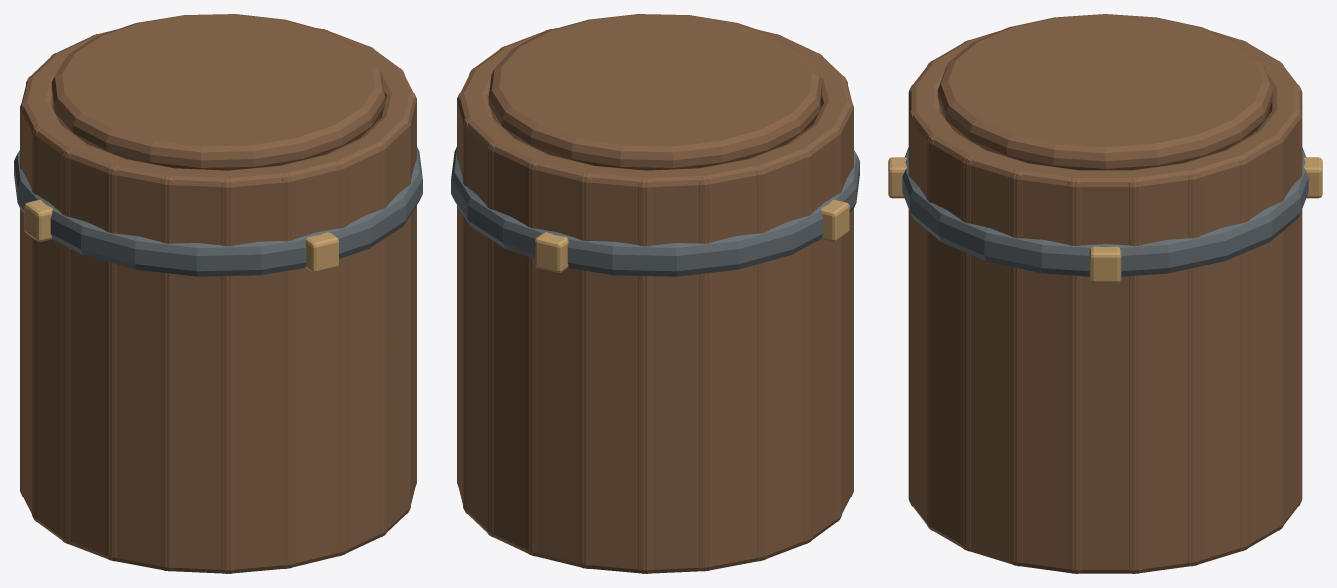
Rendered from stage1_barrel.glb.
The picture shows the model from 3 angles, left to right: view 1: azimuth 30°, elevation 25°; view 2: azimuth 150°, elevation 25°; view 3: azimuth 270°, elevation 25°; orthographic projection.
Visible parts, largest first — view 1: SceneryRuntime; view 2: SceneryRuntime; view 3: SceneryRuntime.
Boxes of the visible parts, x1=… form: SceneryRuntime: x1=14, y1=14, x2=422, y2=573; SceneryRuntime: x1=451, y1=14, x2=859, y2=573; SceneryRuntime: x1=888, y1=14, x2=1322, y2=573.
Size of the model in its own units: 1.03 by 1.09 by 1.04.
